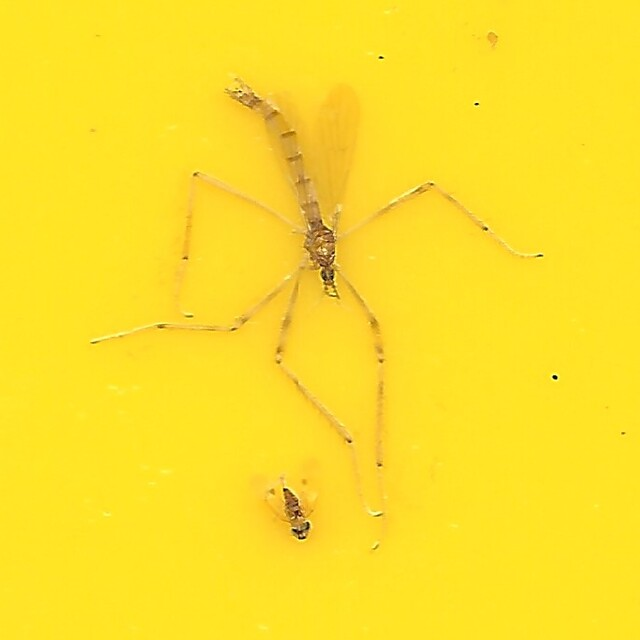Hemiptera: (264, 476, 318, 546)
Nematocera: (94, 85, 546, 555)
